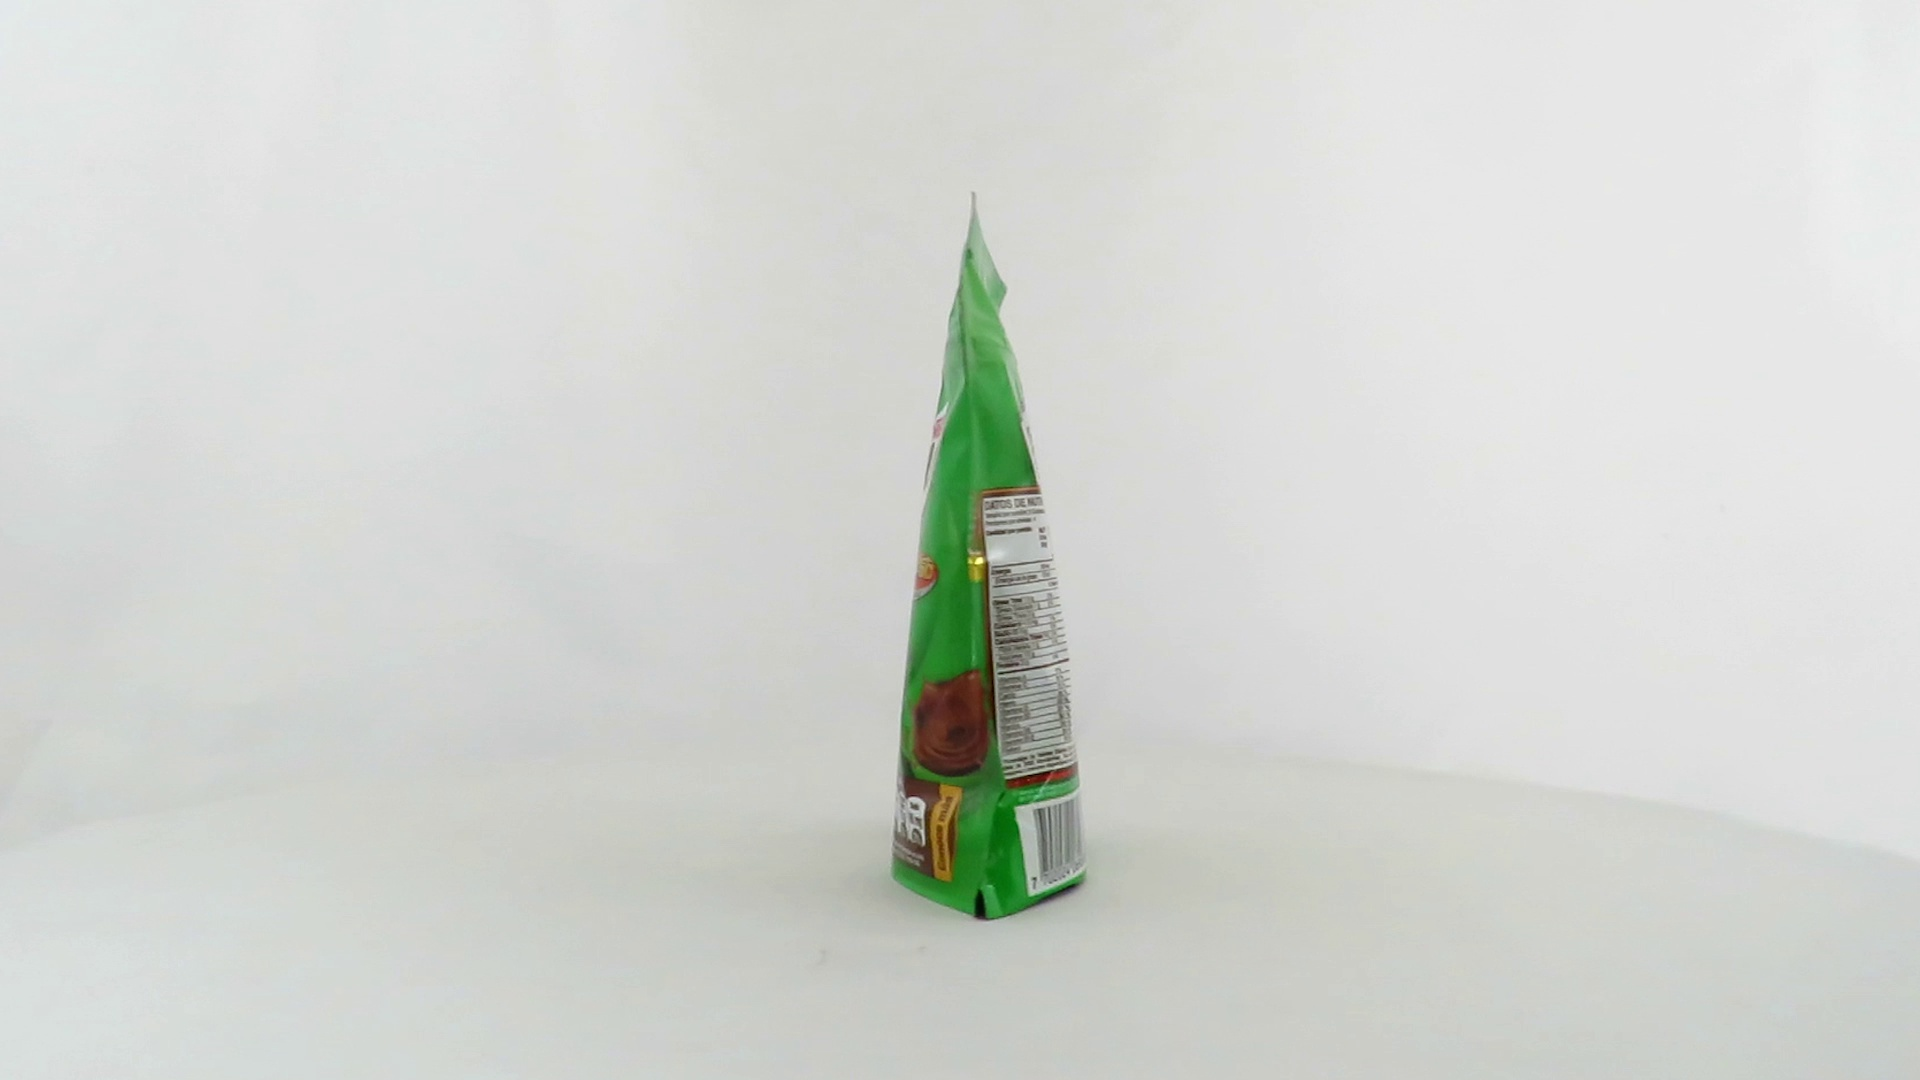COL0170203DYP10000: (885, 187, 1096, 927)
